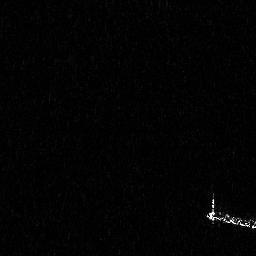ship: (203, 192, 256, 233)
